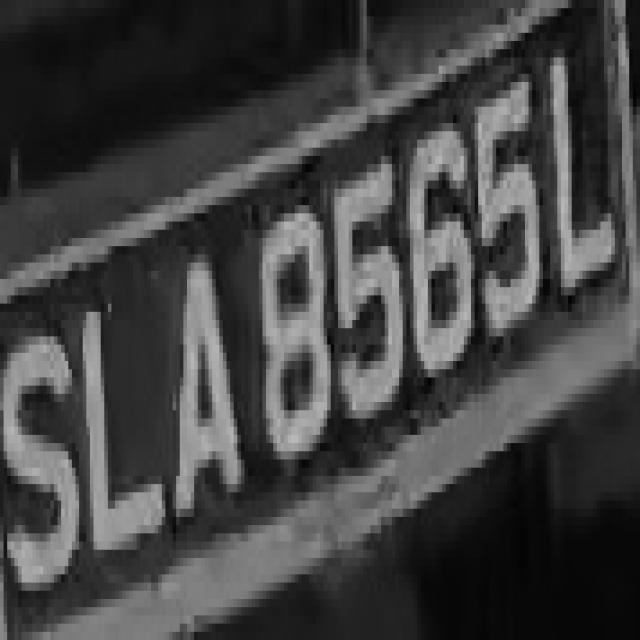5: (468, 65, 550, 352), (323, 148, 402, 435)
6: (399, 90, 485, 402)
8: (252, 197, 342, 484)
A: (162, 205, 244, 525)
L: (76, 295, 172, 558), (539, 17, 626, 304)
S: (3, 312, 82, 599)
